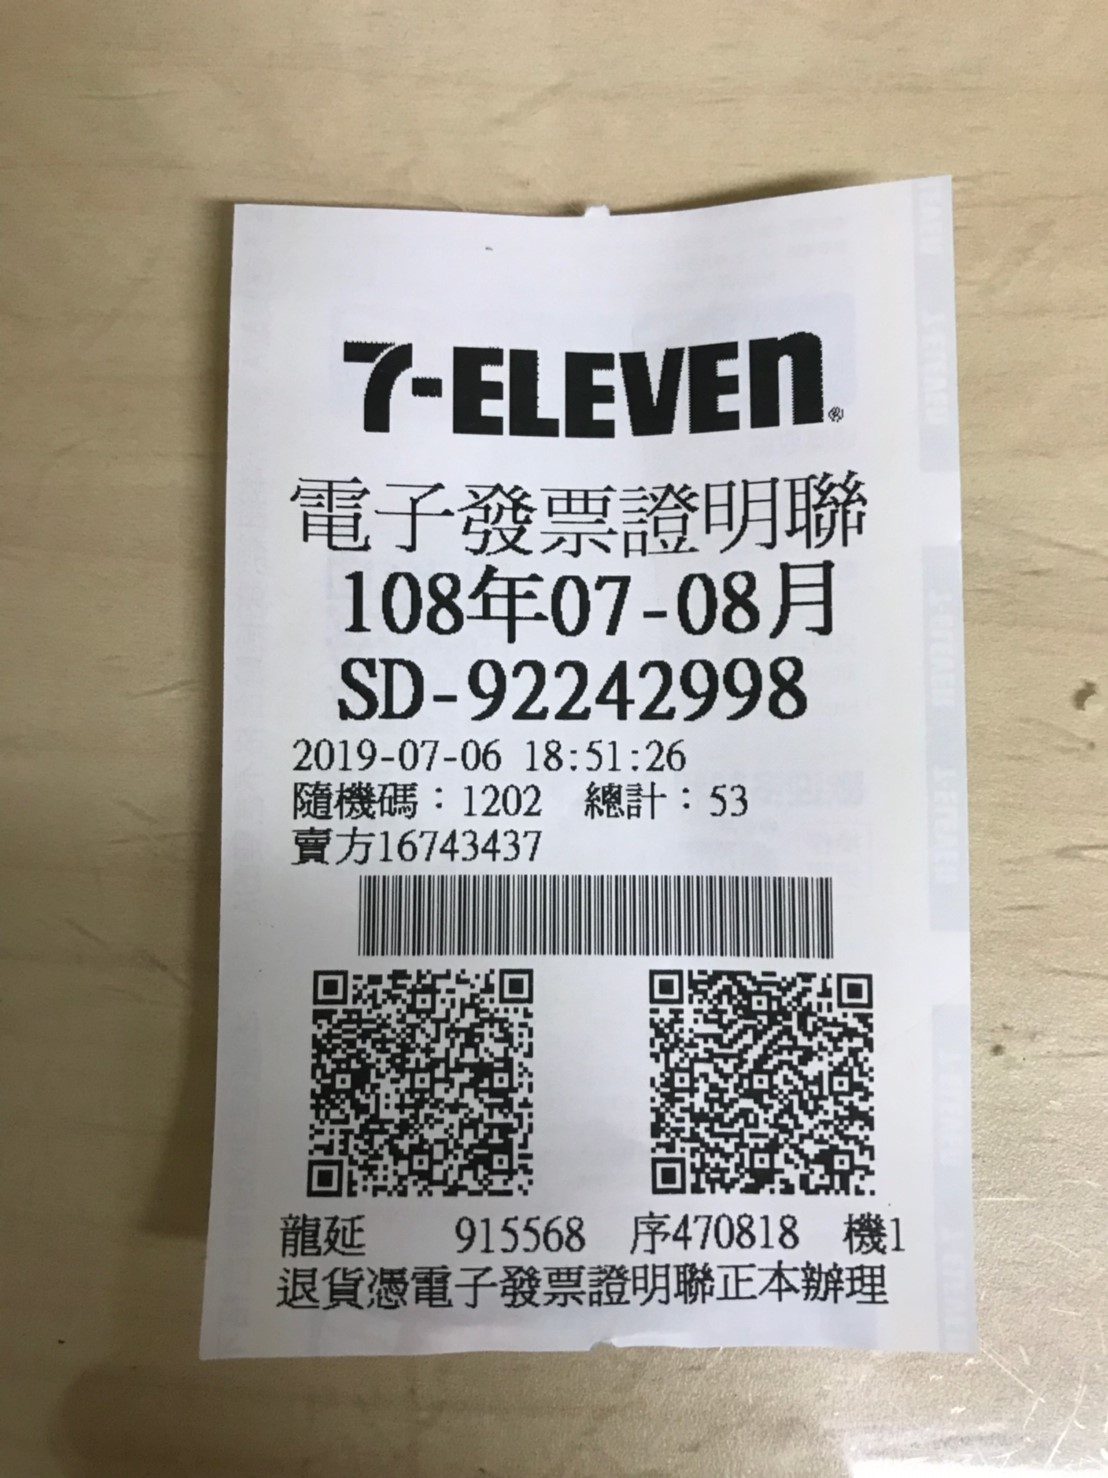Date_New: (341, 556, 841, 644)
Number_New: (462, 649, 811, 731)
